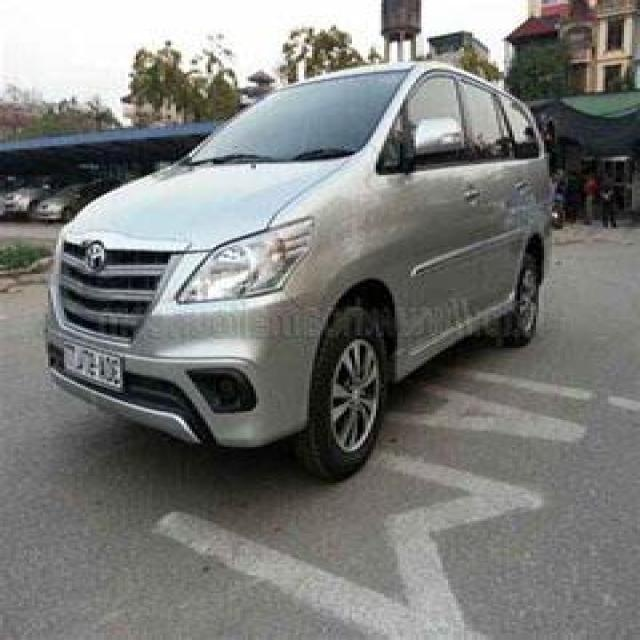car: (28, 50, 588, 505)
